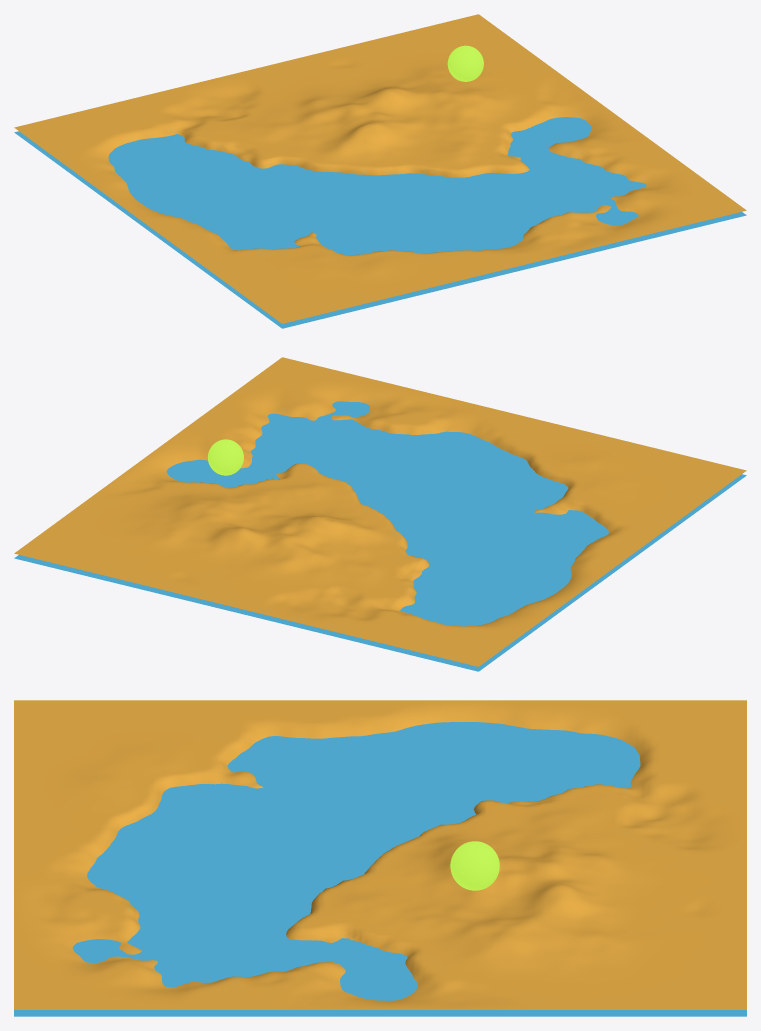
The picture shows the model from 3 angles, top to bottom: view 1: azimuth 30°, elevation 25°; view 2: azimuth 150°, elevation 25°; view 3: azimuth 270°, elevation 25°; orthographic projection. The views are drawn at different scales.
Parts seen in each view (by area): view 1: Landscape, Landscape_plane, Sphere; view 2: Landscape, Landscape_plane, Sphere; view 3: Landscape, Landscape_plane, Sphere.
Part boxes in pixels (x1,y1,x2,y2): Landscape: (14, 14, 746, 323); Landscape_plane: (14, 117, 746, 328); Sphere: (447, 45, 483, 81); Landscape: (14, 357, 746, 666); Landscape_plane: (14, 401, 746, 671); Sphere: (207, 439, 243, 475); Landscape: (14, 700, 746, 1009); Landscape_plane: (14, 722, 746, 1016); Sphere: (450, 841, 499, 890).
Bounding box in the file's own units: 200 × 52.45 × 200.
